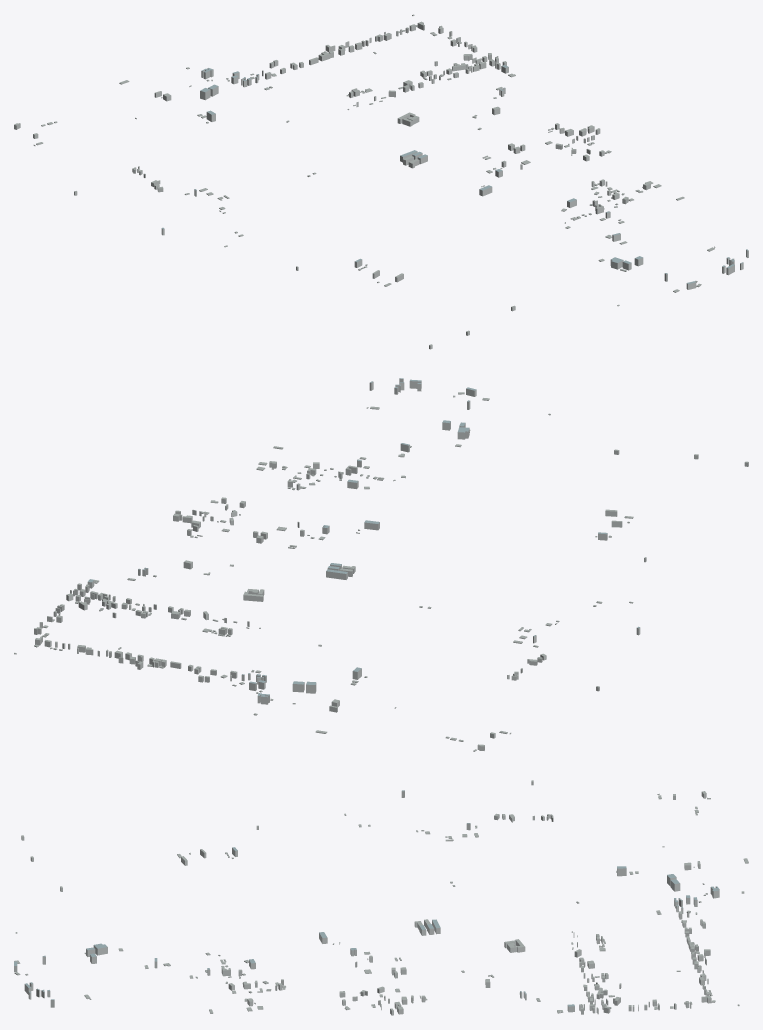
File: far.glb
3 renders of one model, top to bottom at view 1: azimuth 30°, elevation 25°; view 2: azimuth 150°, elevation 25°; view 3: azimuth 270°, elevation 25°, orthographic. The views are drawn at different scales.
Bounding box in the file's own units: 1536 × 25.35 × 2060.
